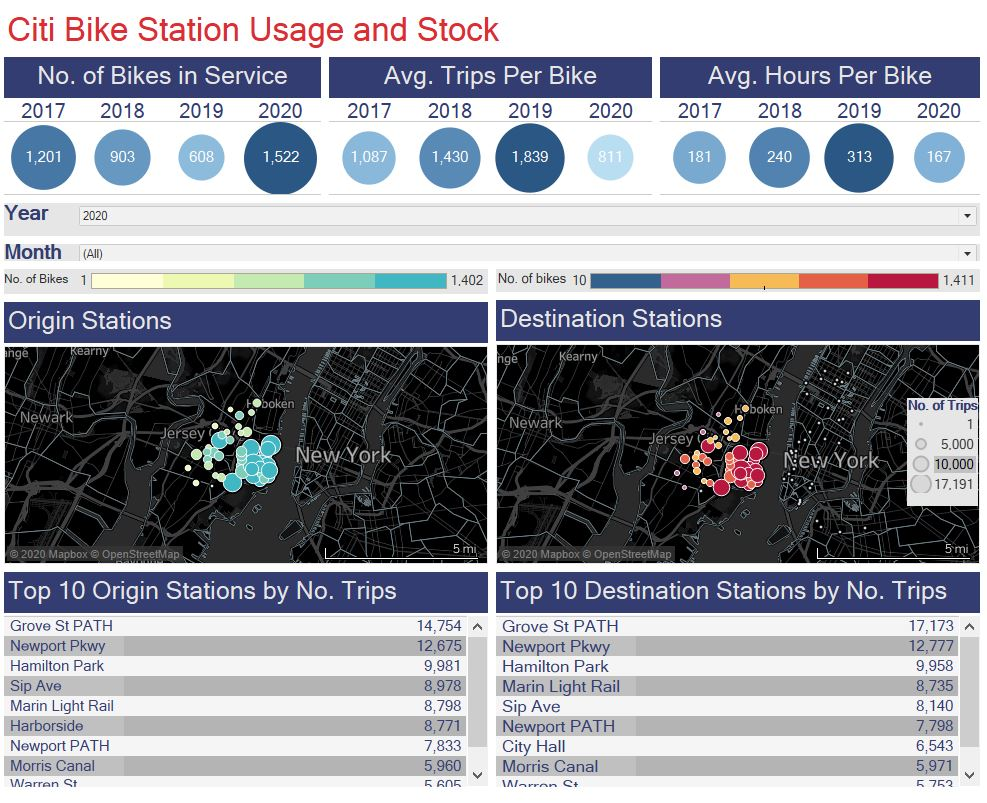

The page's visual inventory and layout, read from the dashboard file:
{"tool":"tableau","page":{"name":"Stock and Stations","canvas":[1000,800],"ordinal":0},"visuals":[{"type":"worksheet","box":[0,0,1000,800]},{"type":"worksheet","param":"vert","box":[8,8,984,784]},{"type":"worksheet","box":[8,8,984,46]},{"type":"worksheet","box":[8,54,984,738]},{"type":"worksheet","title":"Bikes in Stock","mark":"Circle","cols":["starttime"],"box":[8,54,325,146]},{"type":"worksheet","param":"horz","box":[333,54,331,146]},{"type":"worksheet","title":"Average No. Trips per bike","mark":"Circle","cols":["starttime"],"box":[333,54,331,146]},{"type":"worksheet","param":"horz","box":[664,54,328,146]},{"type":"worksheet","title":"Average Duration per bike","mark":"Circle","cols":["starttime"],"box":[664,54,328,146]},{"type":"worksheet","param":"horz","box":[8,200,984,41]},{"type":"worksheet","title":"Mapping Destination Stations","mark":"Automatic","rows":["end station latitude"],"cols":["end station longitude"],"param":"[federated.1dh2xpi08bk03a19hez5q01vjq2d].[yr:starttime:ok]","box":[8,200,984,41]},{"type":"worksheet","title":"Mapping Destination Stations","mark":"Automatic","rows":["end station latitude"],"cols":["end station longitude"],"param":"[federated.1dh2xpi08bk03a19hez5q01vjq2d].[mn:starttime:ok]","box":[8,241,984,25]},{"type":"worksheet","param":"horz","box":[8,266,984,526]},{"type":"worksheet","box":[8,266,984,526]},{"type":"worksheet","title":"Mapping Origin Stations","mark":"Automatic","rows":["start station latitude"],"cols":["start station longitude"],"param":"[federated.1dh2xpi08bk03a19hez5q01vjq2d].[ctd:bikeid:qk]","box":[8,266,492,33]},{"type":"worksheet","param":"vert","box":[500,266,492,526]},{"type":"worksheet","param":"horz","box":[500,266,492,526]},{"type":"worksheet","box":[500,266,492,526]},{"type":"worksheet","box":[500,266,492,303]},{"type":"worksheet","param":"vert","box":[500,266,492,30.7]},{"type":"worksheet","title":"Mapping Destination Stations","mark":"Automatic","rows":["end station latitude"],"cols":["end station longitude"],"param":"[federated.1dh2xpi08bk03a19hez5q01vjq2d].[ctd:bikeid:qk]","box":[500,266,492,30.7]},{"type":"worksheet","param":"vert","box":[500,296.7,492,272.3]},{"type":"worksheet","title":"Mapping Destination Stations","mark":"Automatic","rows":["end station latitude"],"cols":["end station longitude"],"box":[500,296.7,492,272.3]},{"type":"worksheet","title":"Mapping Origin Stations","mark":"Automatic","rows":["start station latitude"],"cols":["start station longitude"],"box":[8,299,492,270]},{"type":"worksheet","title":"Mapping Destination Stations","mark":"Automatic","rows":["end station latitude"],"cols":["end station longitude"],"param":"[federated.1dh2xpi08bk03a19hez5q01vjq2d].[cnt:bikeid:qk]","box":[915,399,71,108]},{"type":"worksheet","title":"Top 10 Origin Stations","mark":"Automatic","rows":["start station name"],"box":[8,569,492,223]},{"type":"worksheet","param":"vert","box":[500,569,492,223]},{"type":"worksheet","title":"Top 10 Destination Stations","mark":"Automatic","rows":["end station name"],"box":[500,569,492,223]}]}

Visuals, with their boxes in screenshot pixels (x1, y1, x2, y2), scaled from the page's 1000x800 canvas onto the 987x803 screenshot:
worksheet: [0, 0, 986, 802]
worksheet: [8, 8, 979, 795]
worksheet: [8, 8, 979, 54]
worksheet: [8, 54, 979, 795]
"Bikes in Stock" worksheet (Circle marks): [8, 54, 329, 201]
worksheet: [329, 54, 655, 201]
"Average No. Trips per bike" worksheet (Circle marks): [329, 54, 655, 201]
worksheet: [655, 54, 979, 201]
"Average Duration per bike" worksheet (Circle marks): [655, 54, 979, 201]
worksheet: [8, 201, 979, 242]
"Mapping Destination Stations" worksheet: [8, 201, 979, 242]
"Mapping Destination Stations" worksheet: [8, 242, 979, 267]
worksheet: [8, 267, 979, 795]
worksheet: [8, 267, 979, 795]
"Mapping Origin Stations" worksheet: [8, 267, 494, 300]
worksheet: [494, 267, 979, 795]
worksheet: [494, 267, 979, 795]
worksheet: [494, 267, 979, 795]
worksheet: [494, 267, 979, 571]
worksheet: [494, 267, 979, 298]
"Mapping Destination Stations" worksheet: [494, 267, 979, 298]
worksheet: [494, 298, 979, 571]
"Mapping Destination Stations" worksheet: [494, 298, 979, 571]
"Mapping Origin Stations" worksheet: [8, 300, 494, 571]
"Mapping Destination Stations" worksheet: [903, 400, 973, 509]
"Top 10 Origin Stations" worksheet: [8, 571, 494, 795]
worksheet: [494, 571, 979, 795]
"Top 10 Destination Stations" worksheet: [494, 571, 979, 795]
